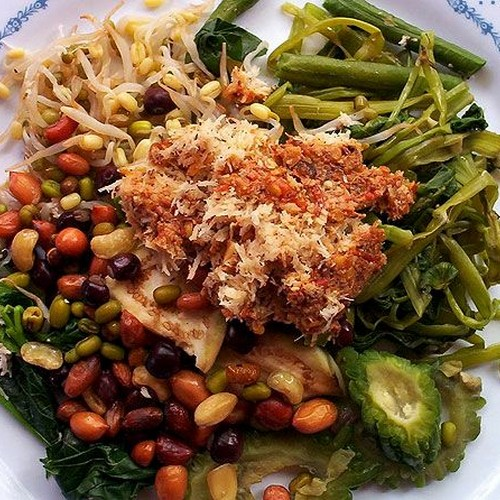serombotan: (46, 23, 500, 480)
